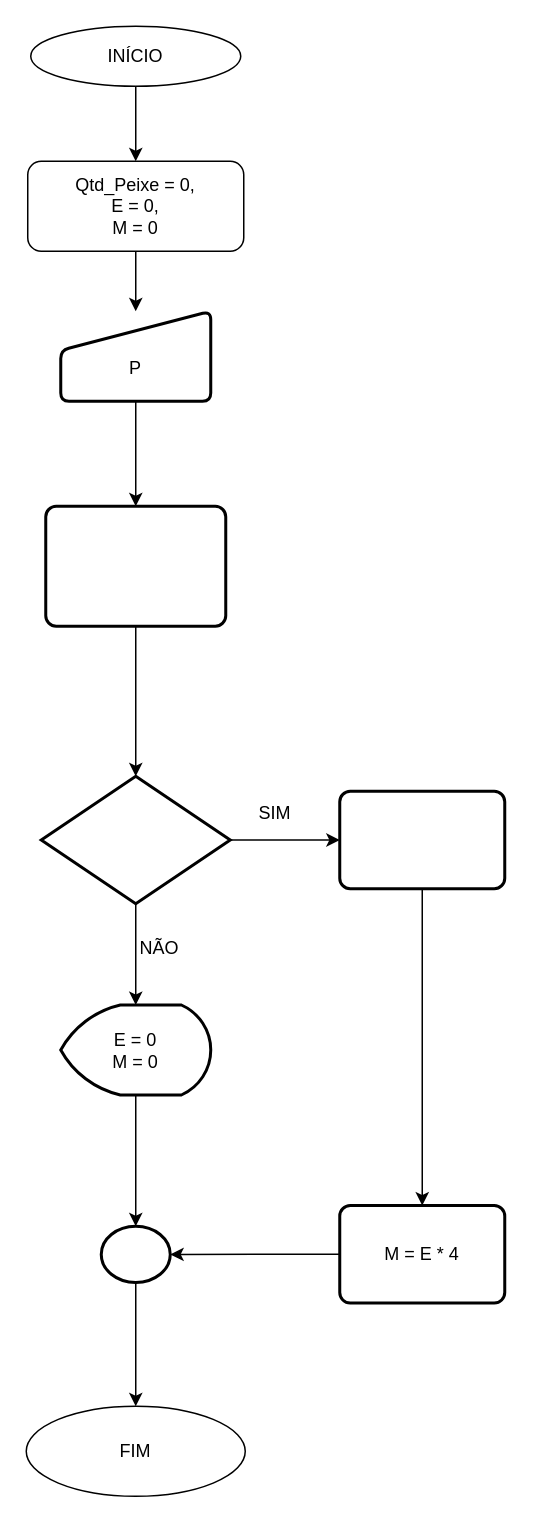
This 533x1523 diagram has some shape labels left out. Each missing label, with the box of its shape:
P += Qtd_Peixe: (44, 504, 226, 627)
P = E - 50: (338, 789, 506, 890)
SE P > 50: (39, 774, 231, 904)
